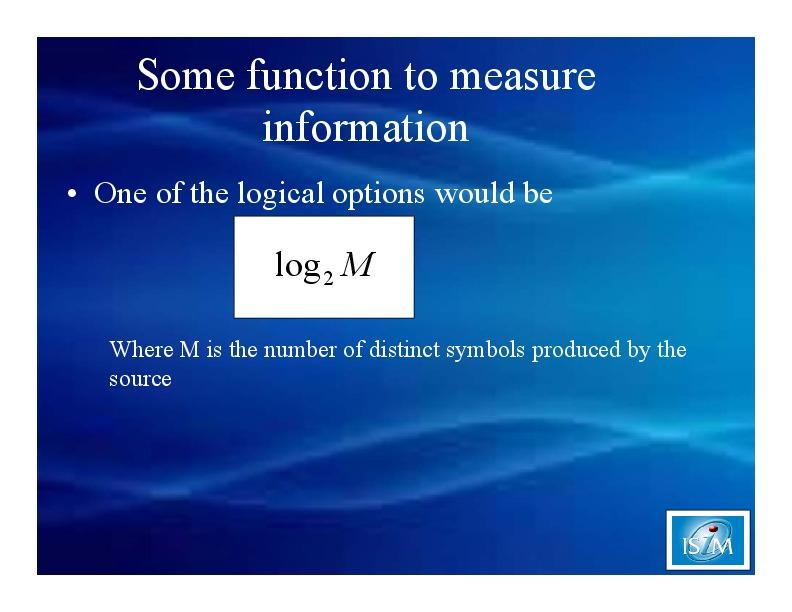paragraph: (63, 169, 705, 397)
title: (131, 43, 610, 150)
